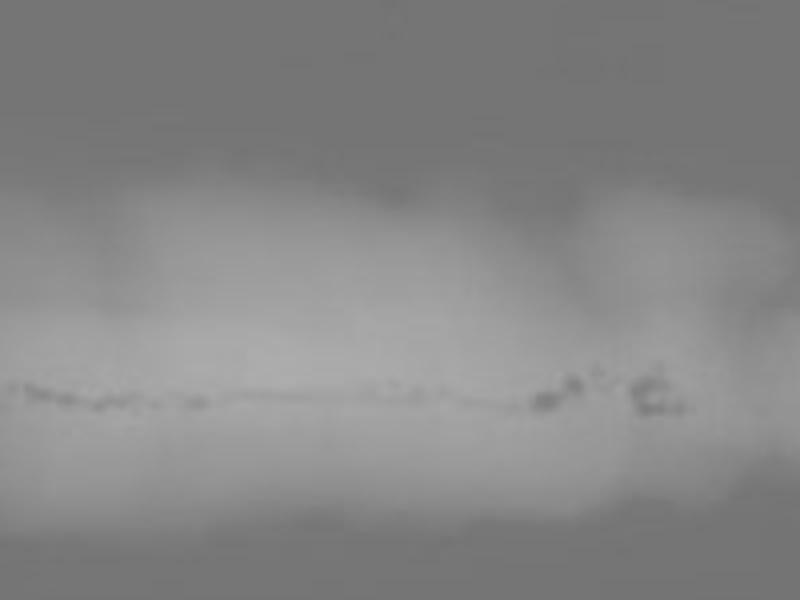defect: (635, 400, 685, 422), (593, 361, 619, 395), (530, 388, 563, 414), (91, 392, 133, 411), (630, 374, 660, 400), (21, 382, 51, 403), (182, 392, 213, 412), (50, 389, 78, 409), (407, 387, 430, 410), (558, 373, 583, 393), (148, 399, 163, 413)
